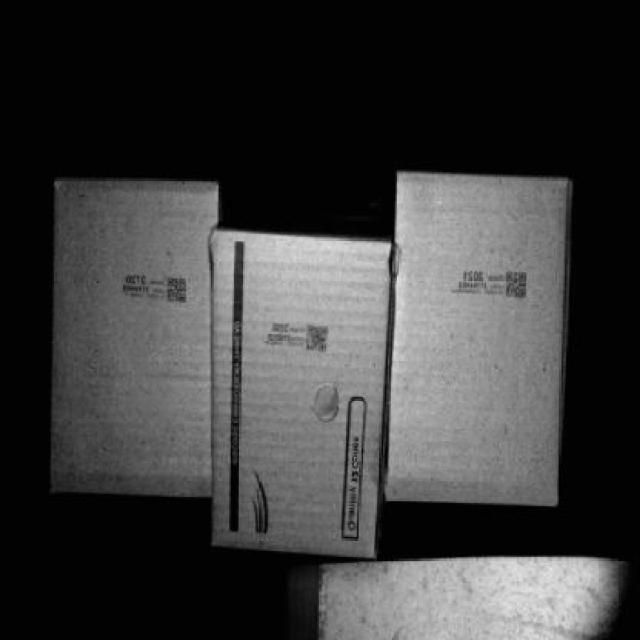cardboxes: (384, 174, 565, 500), (206, 246, 386, 560), (47, 174, 216, 497)
